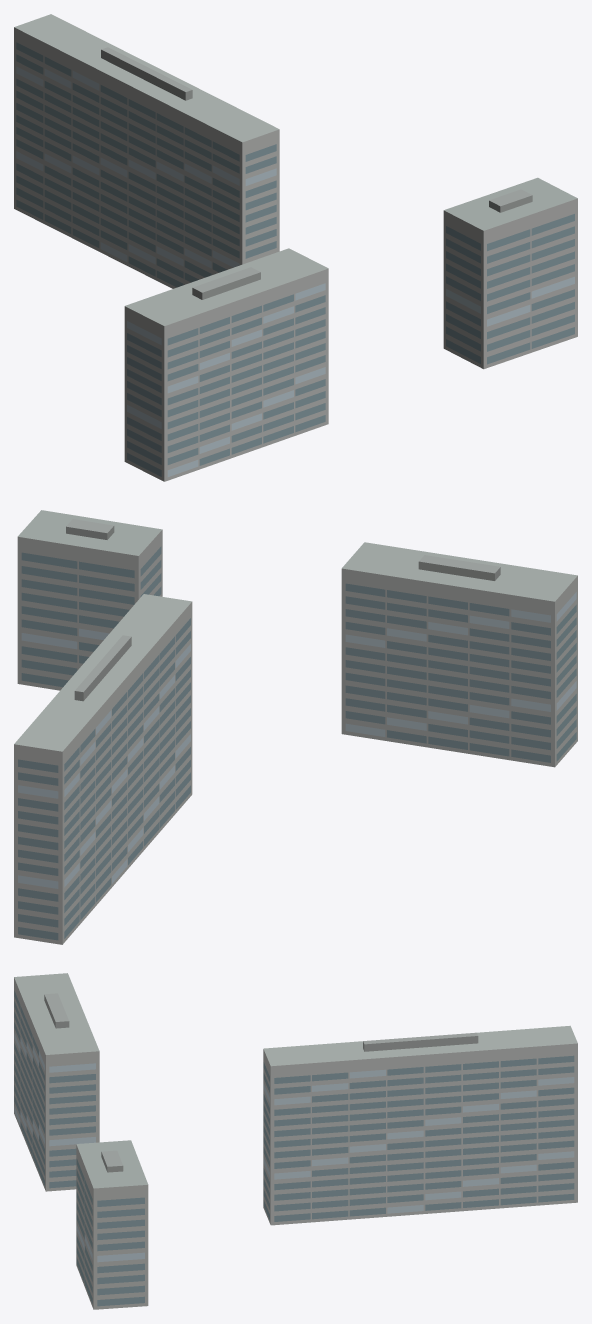
The model's file is apt-a10023593.glb.
The picture shows the model from 3 angles, top to bottom: view 1: azimuth 30°, elevation 25°; view 2: azimuth 150°, elevation 25°; view 3: azimuth 270°, elevation 25°; orthographic projection. The views are drawn at different scales.
Visible parts, largest first — view 1: apt-a10023593; view 2: apt-a10023593; view 3: apt-a10023593.
Boxes of the visible parts, left/top/right/bottom form: apt-a10023593: left=14, top=14, right=577, bottom=481; apt-a10023593: left=14, top=510, right=577, bottom=944; apt-a10023593: left=14, top=973, right=577, bottom=1309.
Bounding box in the file's own units: 108 × 42 × 129.
